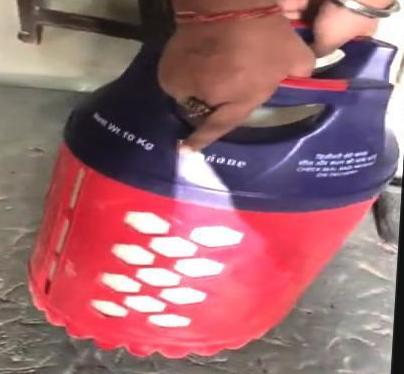cylinder: (1, 0, 404, 374)
